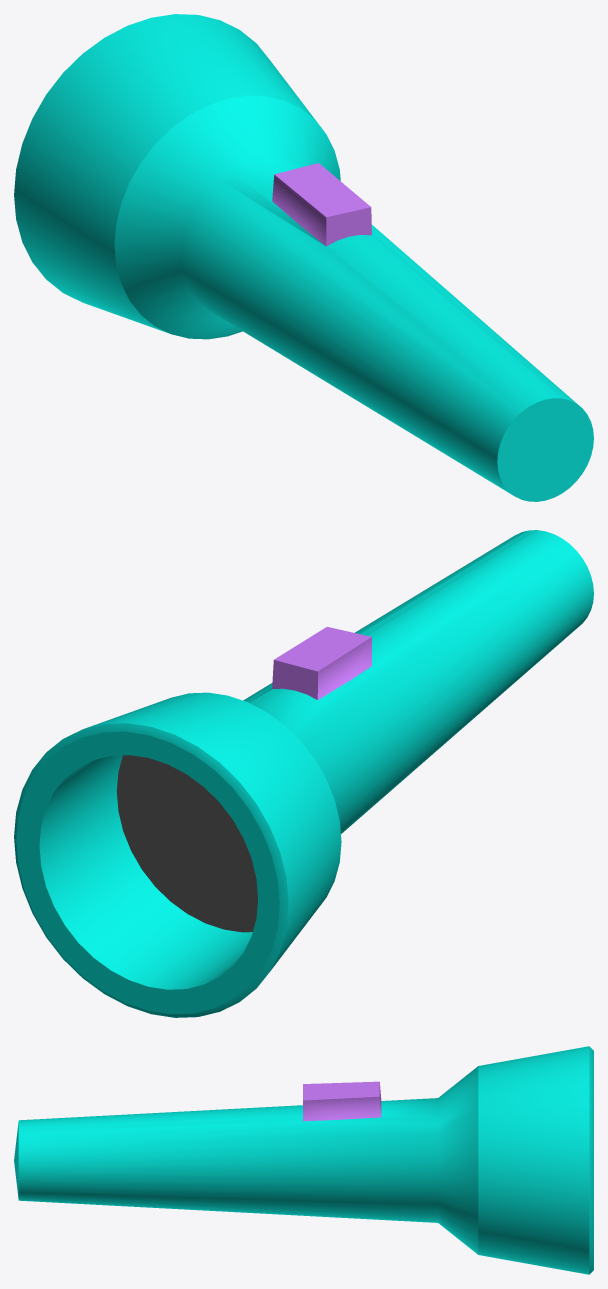
File: FlashLight.fbx
3 renders of one model, top to bottom at view 1: azimuth 30°, elevation 25°; view 2: azimuth 150°, elevation 25°; view 3: azimuth 270°, elevation 25°, orthographic. The views are drawn at different scales.
Parts seen in each view (by area): view 1: Flashlight; view 2: Flashlight; view 3: Flashlight.
Part boxes in pixels (bbox=[...]): Flashlight: bbox=[14, 14, 593, 501]; Flashlight: bbox=[14, 530, 593, 1017]; Flashlight: bbox=[14, 1046, 593, 1274].
Bounding box in the file's own units: 146 × 146 × 370.
